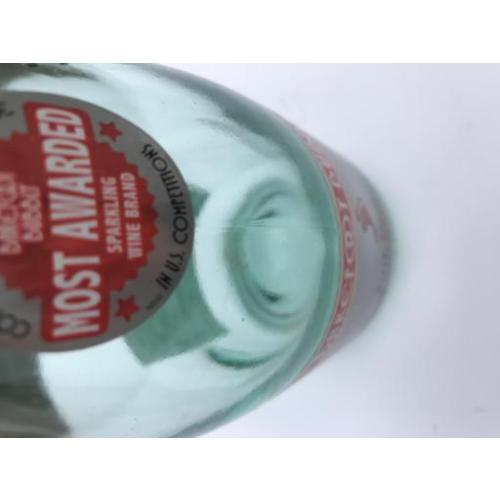glass: (0, 60, 397, 441)
